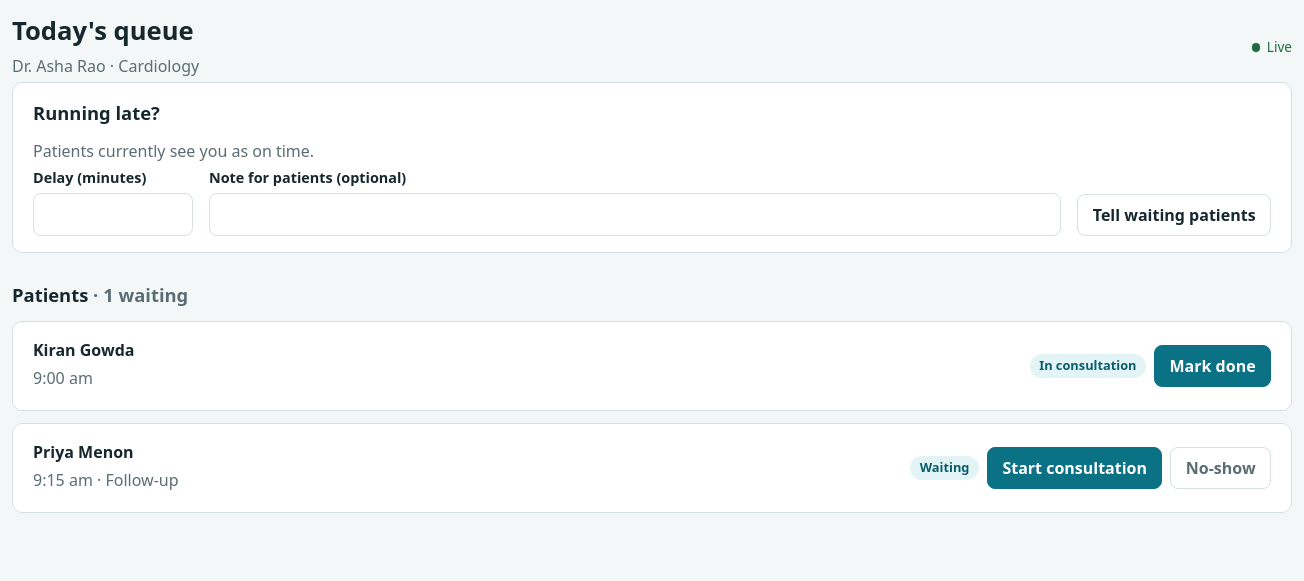
DoctorDashboard › refuses a delay outside the allowed range
Expected: the text "Priya Menon" is shown, [33,441,134,463]
Type "900" into the number field labelled "Delay (minutes)".
click(113, 214); type("900")  # box [33,193,193,236]
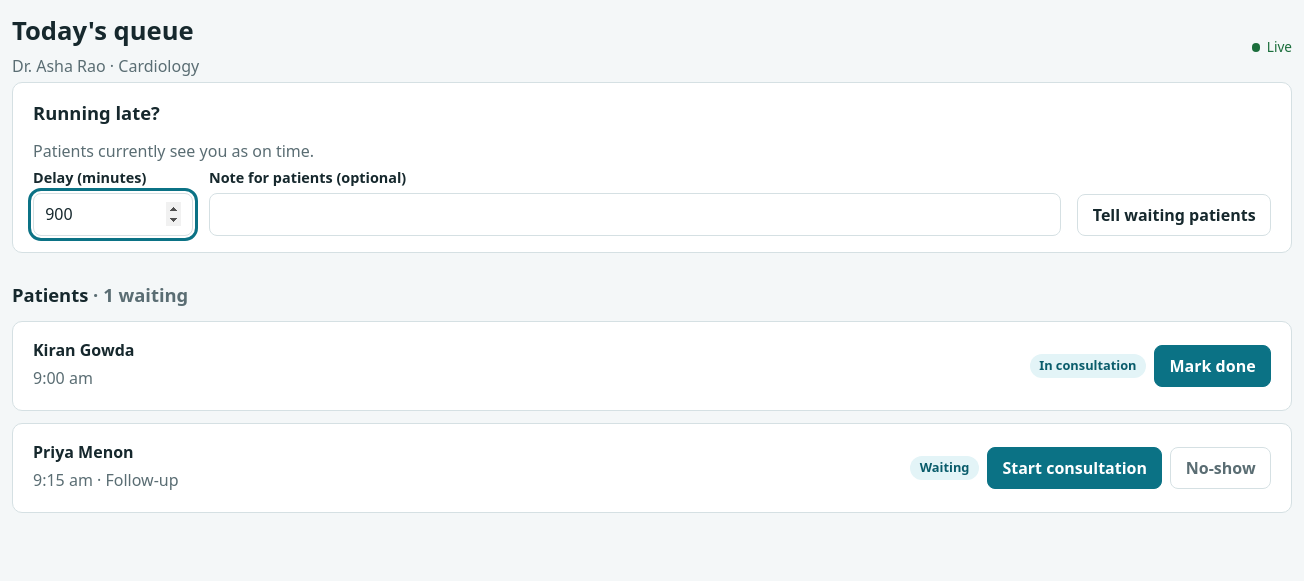
Click the button "Tell waiting patients".
click(1174, 215)  # box [1077,194,1271,236]
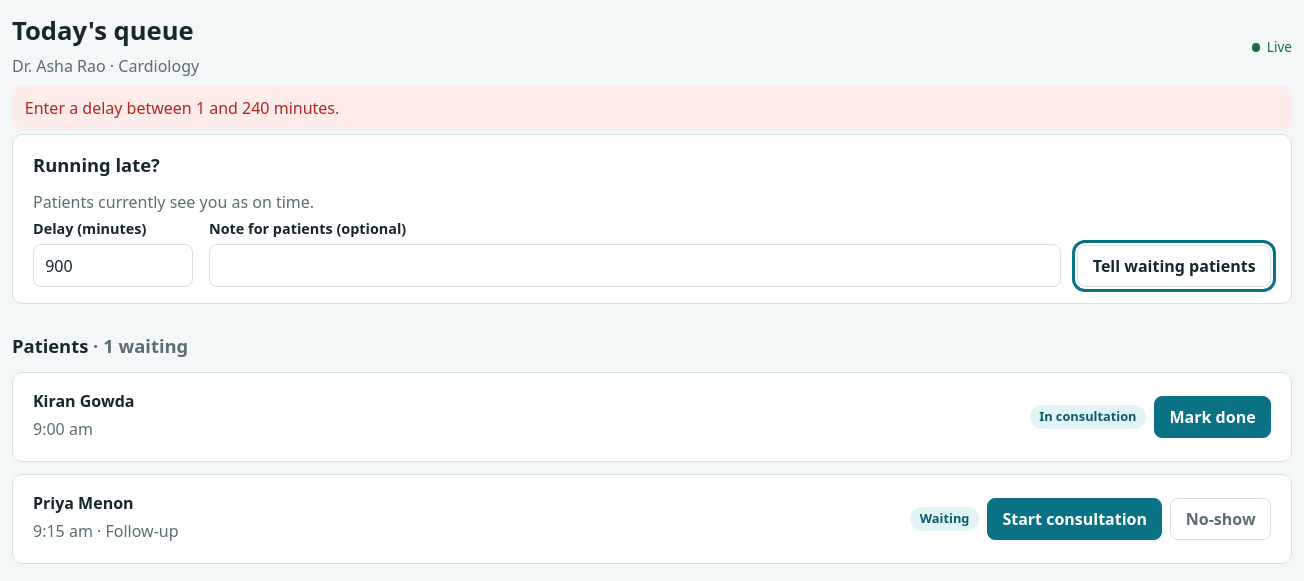
Result: the message shows "between 1 and 240 minutes" at [25,97,339,119]
